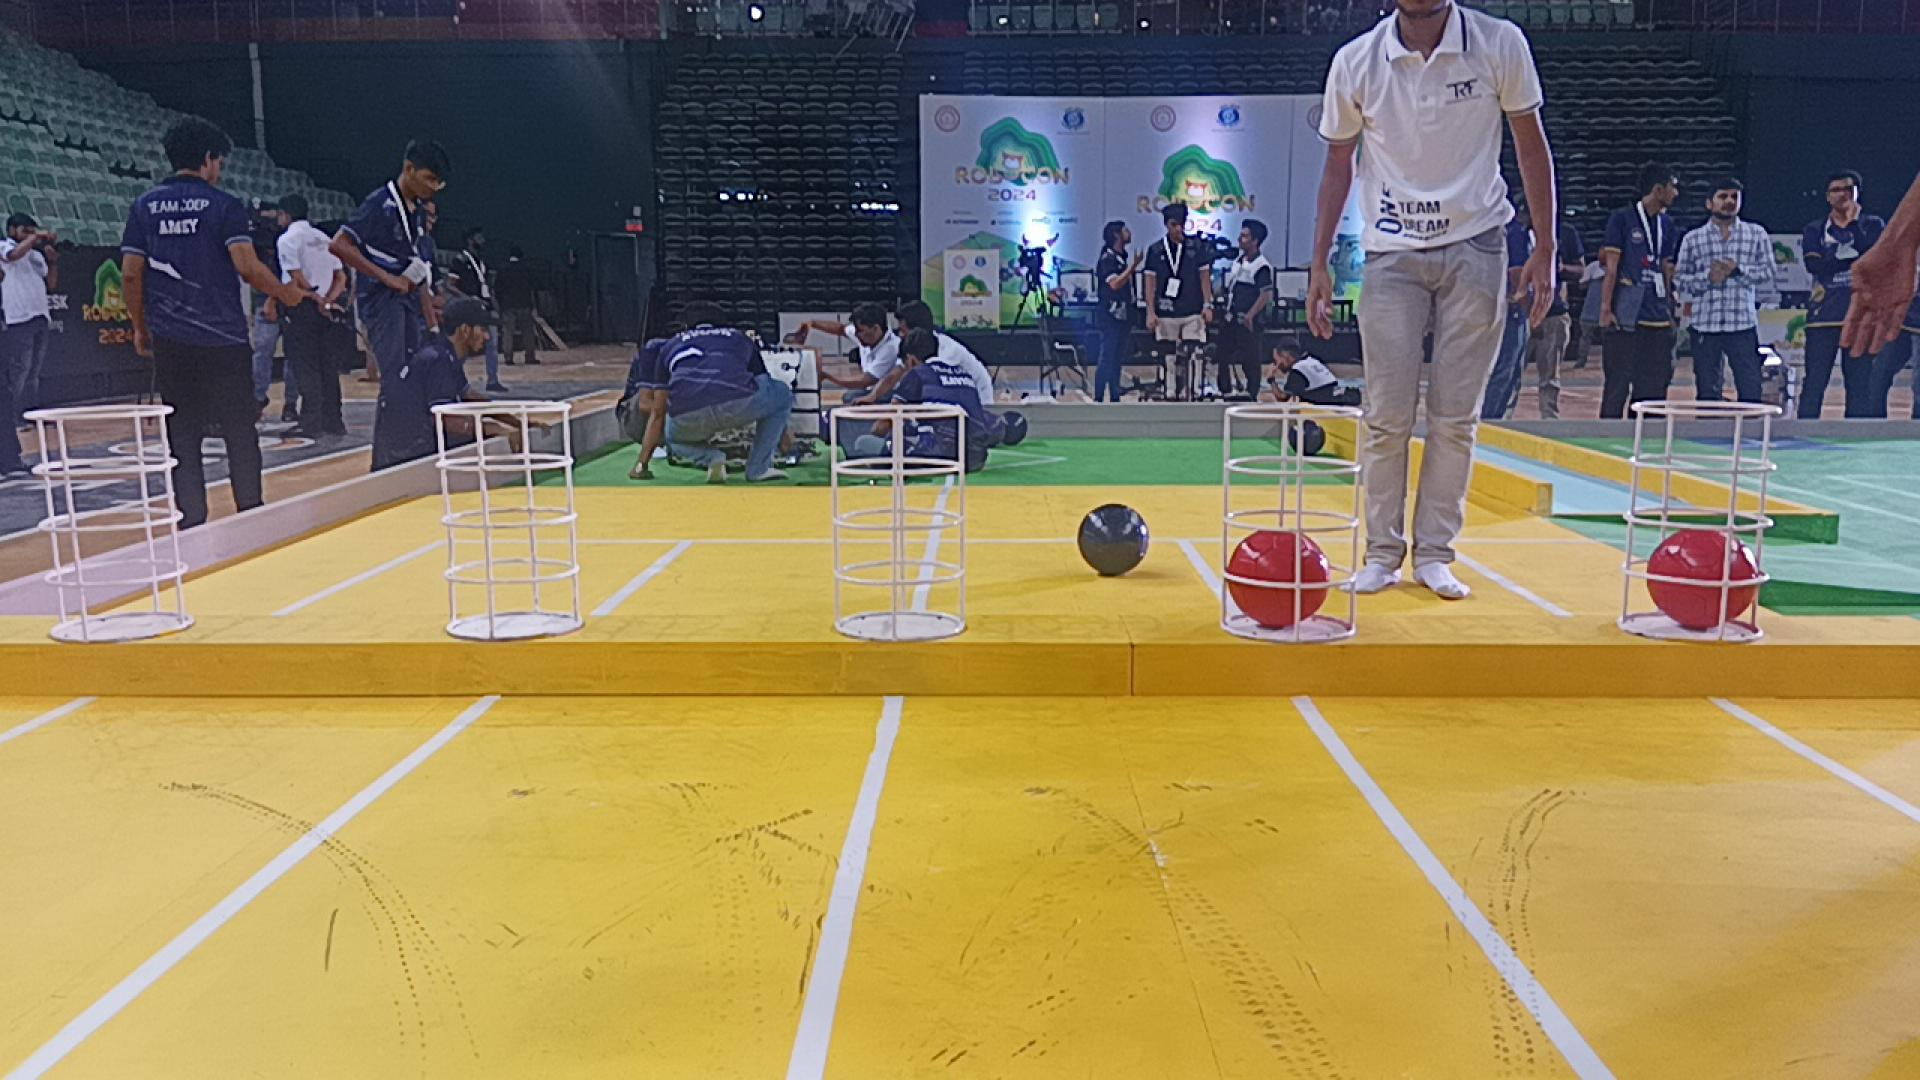laale: (1646, 529, 1763, 630), (1230, 529, 1328, 626)
